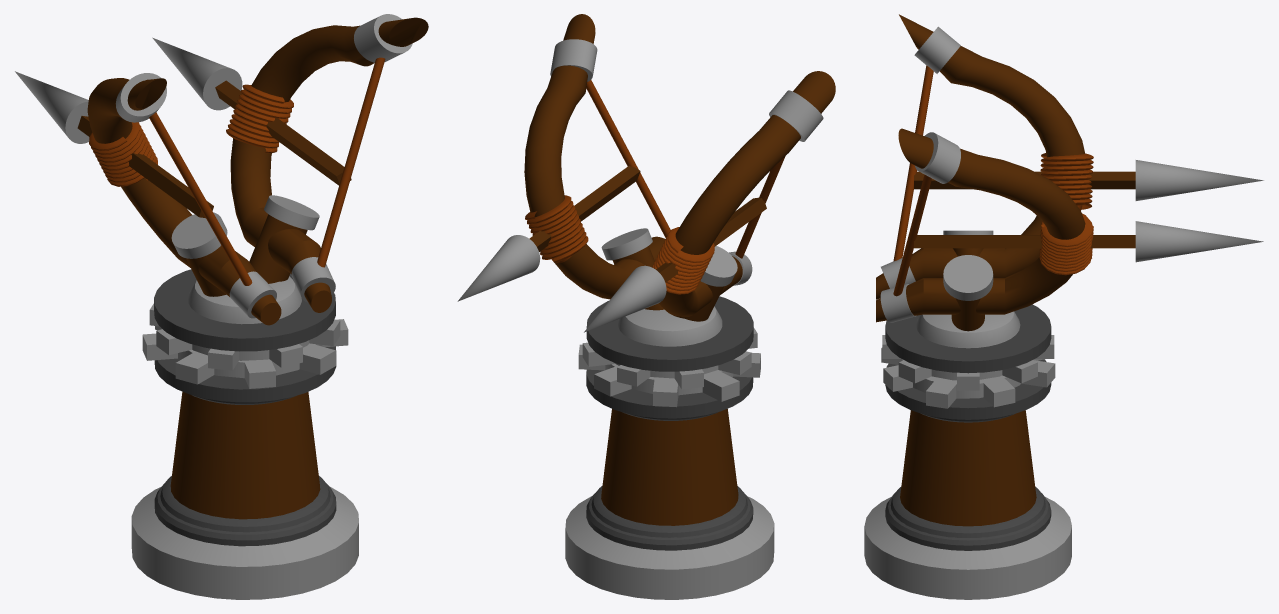
File: torre1_2.fbx
3 renders of one model, left to right at view 1: azimuth 30°, elevation 25°; view 2: azimuth 150°, elevation 25°; view 3: azimuth 270°, elevation 25°, orthographic. The views are drawn at different scales.
Parts seen in each view (by area): view 1: Cylinder.001, Cube.004; view 2: Cylinder.001, Cube.004; view 3: Cylinder.001, Cube.004.
Part boxes in pixels (<box>): Cylinder.001: <box>15,14,428,370</box>; Cube.004: <box>131,319,358,599</box>; Cylinder.001: <box>457,14,835,389</box>; Cube.004: <box>565,344,774,599</box>; Cylinder.001: <box>876,14,1263,390</box>; Cube.004: <box>864,347,1071,599</box>.
Size of the model in its own units: 741 by 1286 by 963.
